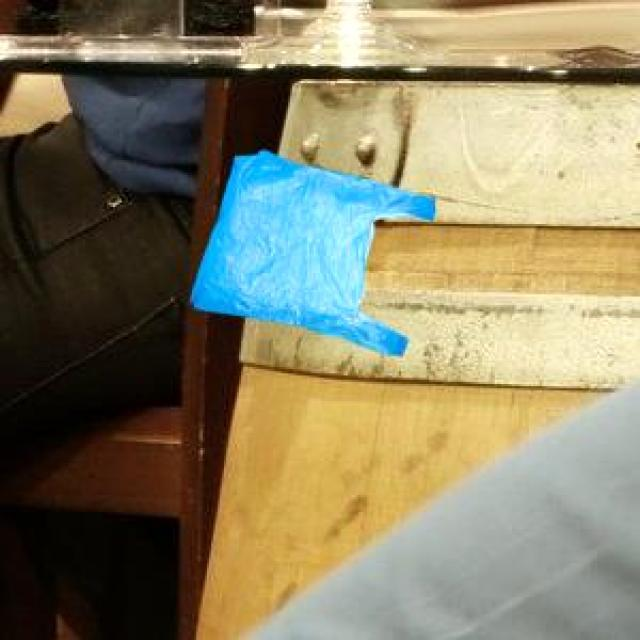Plastic_Bag: (186, 148, 432, 353)
